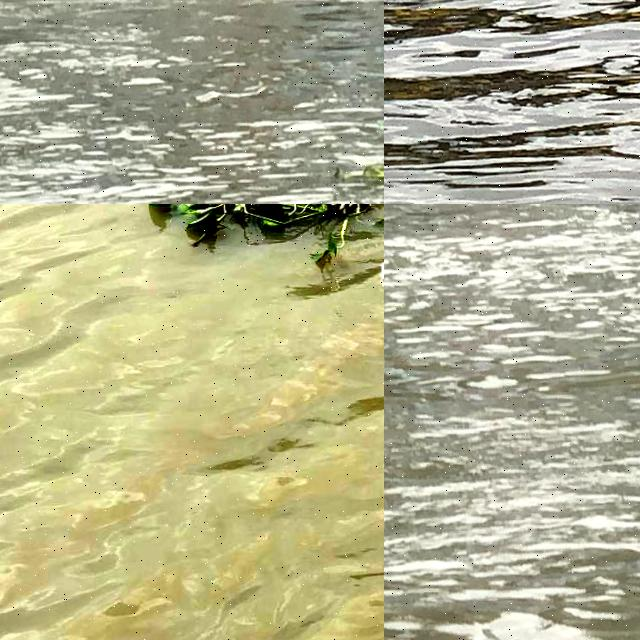water-hyacinth: (126, 205, 378, 270), (385, 244, 467, 325)
